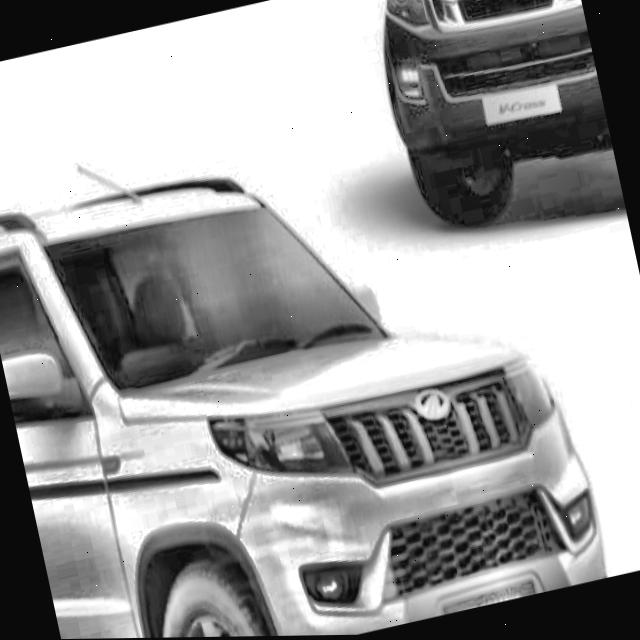light_vehicle: (0, 105, 606, 640), (365, 0, 623, 246)
